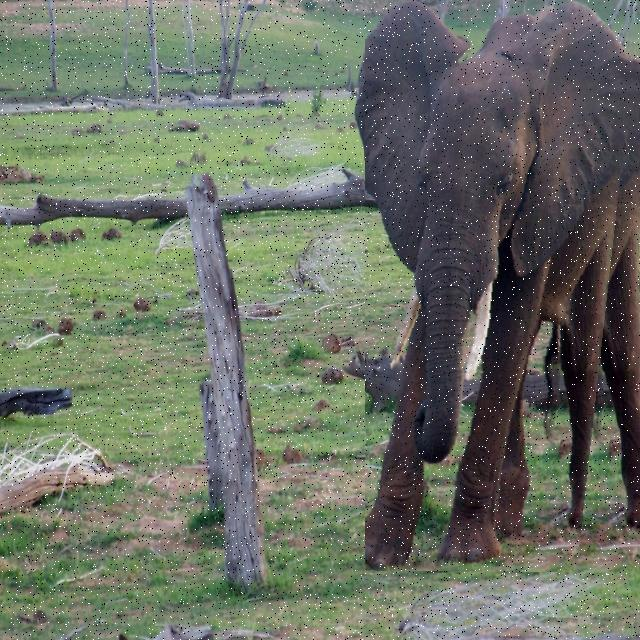elephant: (365, 0, 640, 572)
